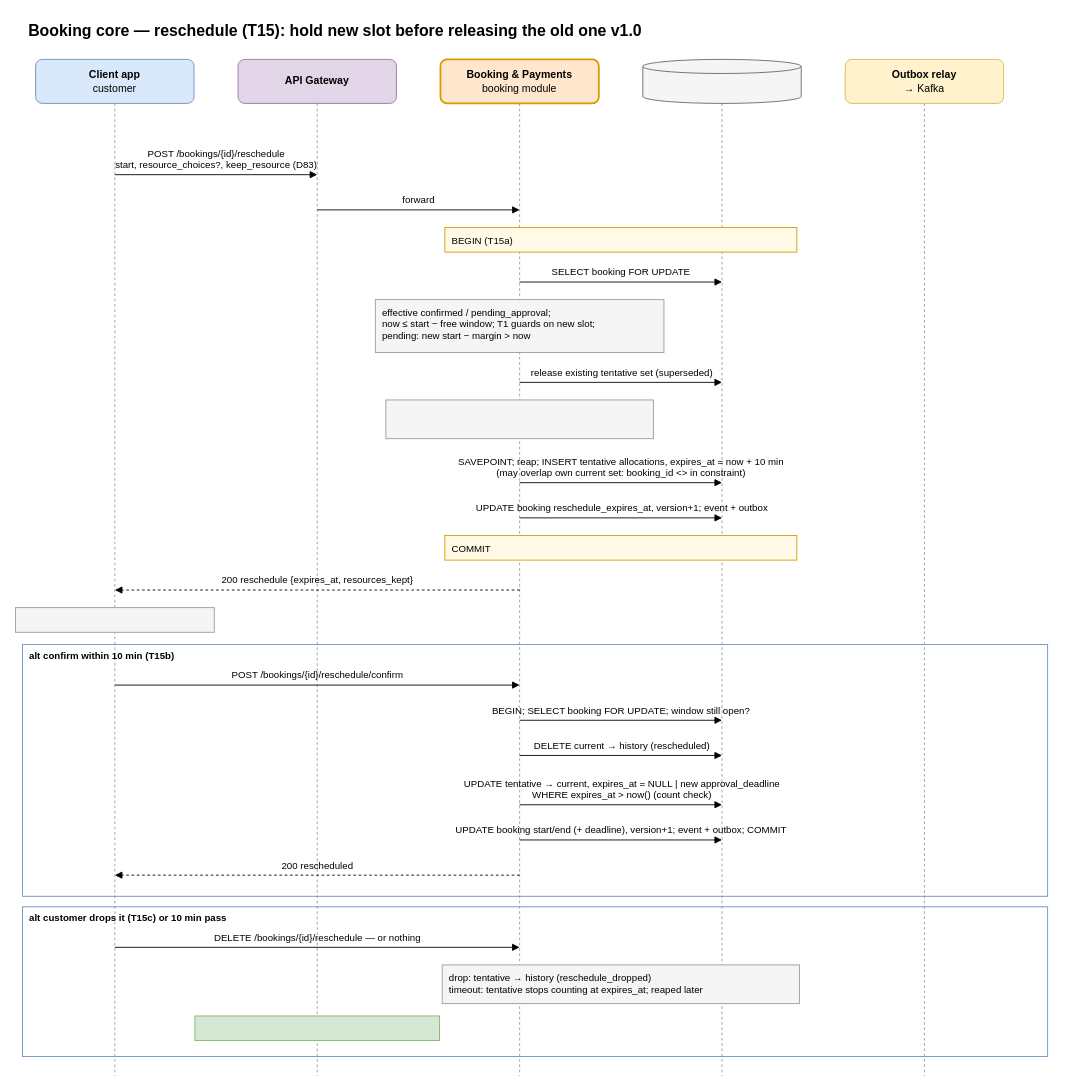
The diagram is 1081 pixels wide and 1092 high, and some of its shapes have lost their labels. The shapes that lost their labels are listed below. From the top down, each one's centre as x and y in pixels, then its label:
the point at 721,81: PostgreSQL booking + ledger
the point at 519,419: pick: keep_resource → current resource first, else normal any-of pick (D82)
the point at 114,619: customer reviews new slot / staff
the point at 317,1028: original slot kept in every case (FR-511)
